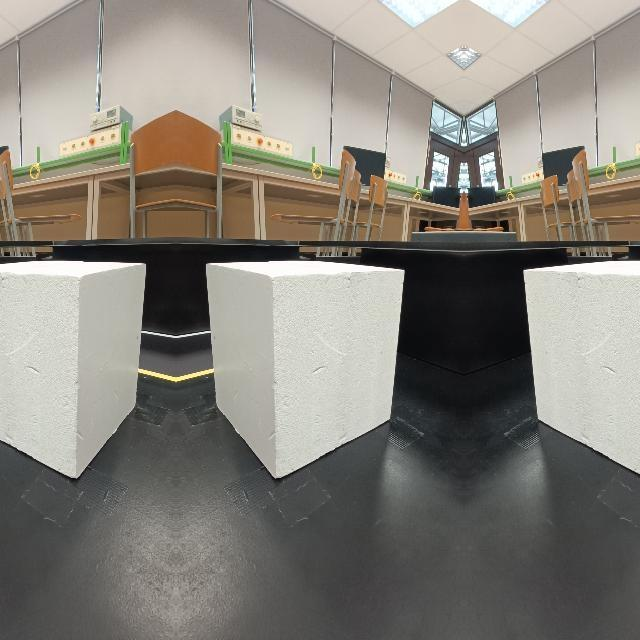obstacle: (203, 262, 405, 480), (0, 261, 147, 480), (522, 261, 640, 480)
